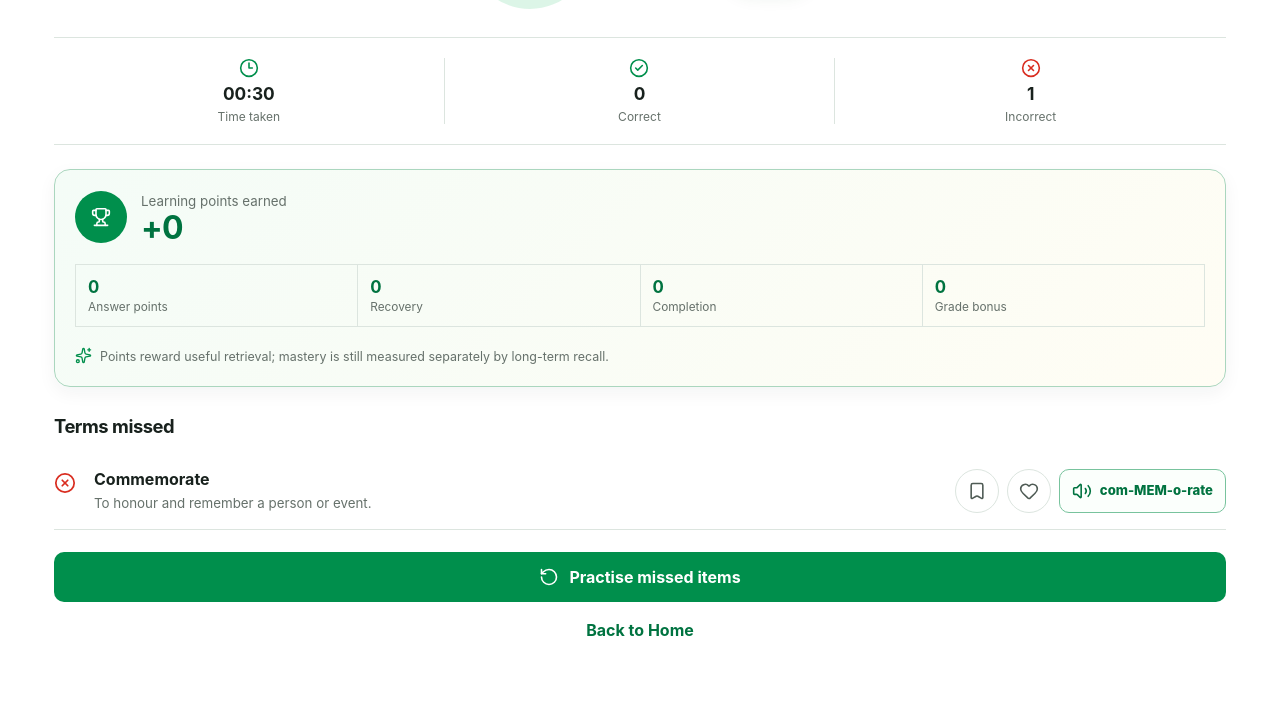
ResultsPage missed-term actions › liking a missed term targets the correct item and refreshes both liked and saved state
(page scrolled)
Click the button named "Add to favourites: Commemorate".
click(1029, 491)  # box [1007, 469, 1051, 513]
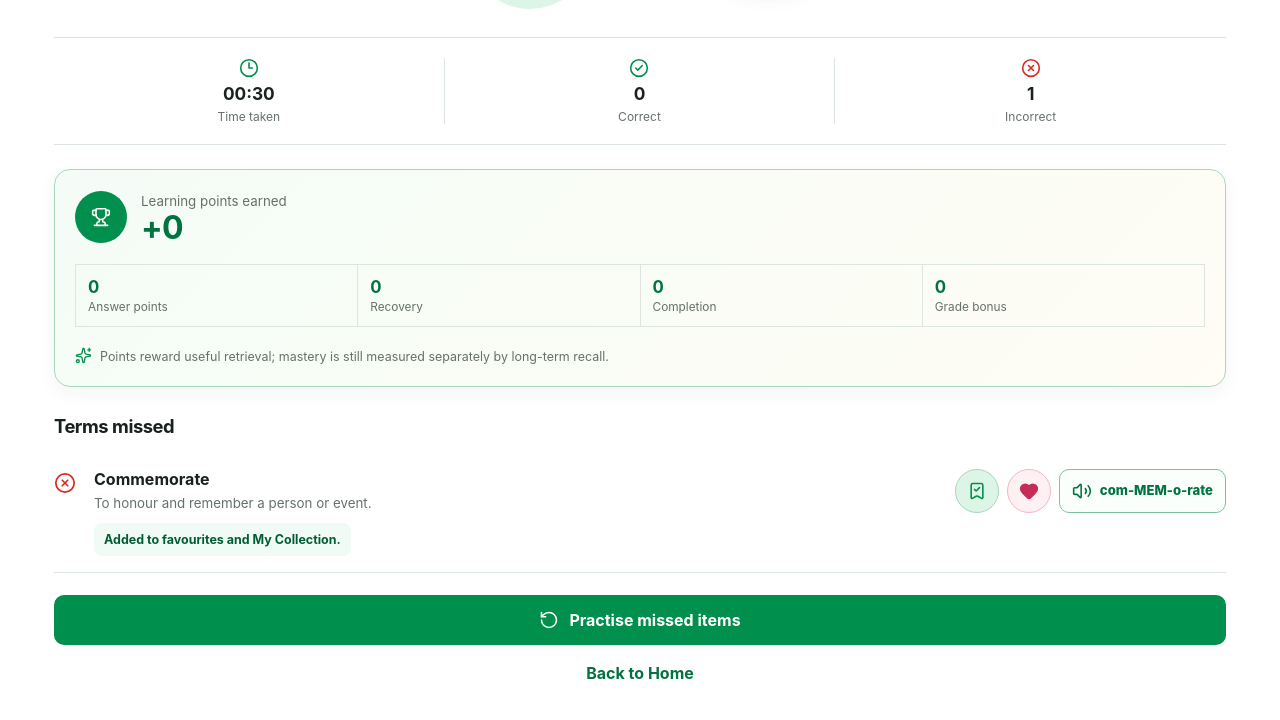
Expected: the message reads "Added to favourites and My Collection.", [104, 532, 341, 547]
